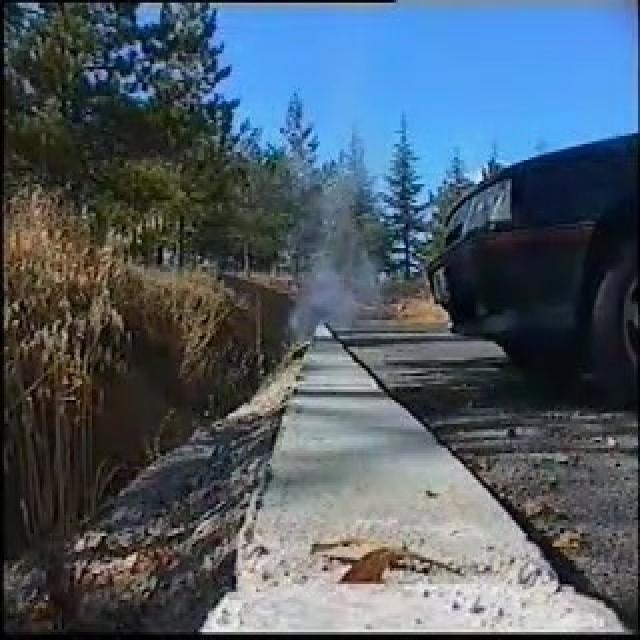smoke: (288, 273, 352, 347)
